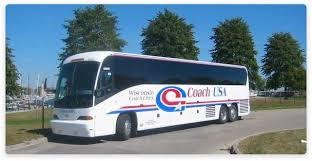bus: (49, 49, 252, 140)
